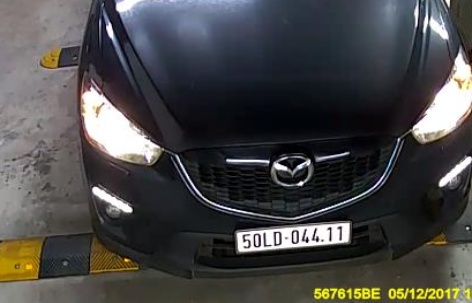plate: (231, 219, 355, 253)
